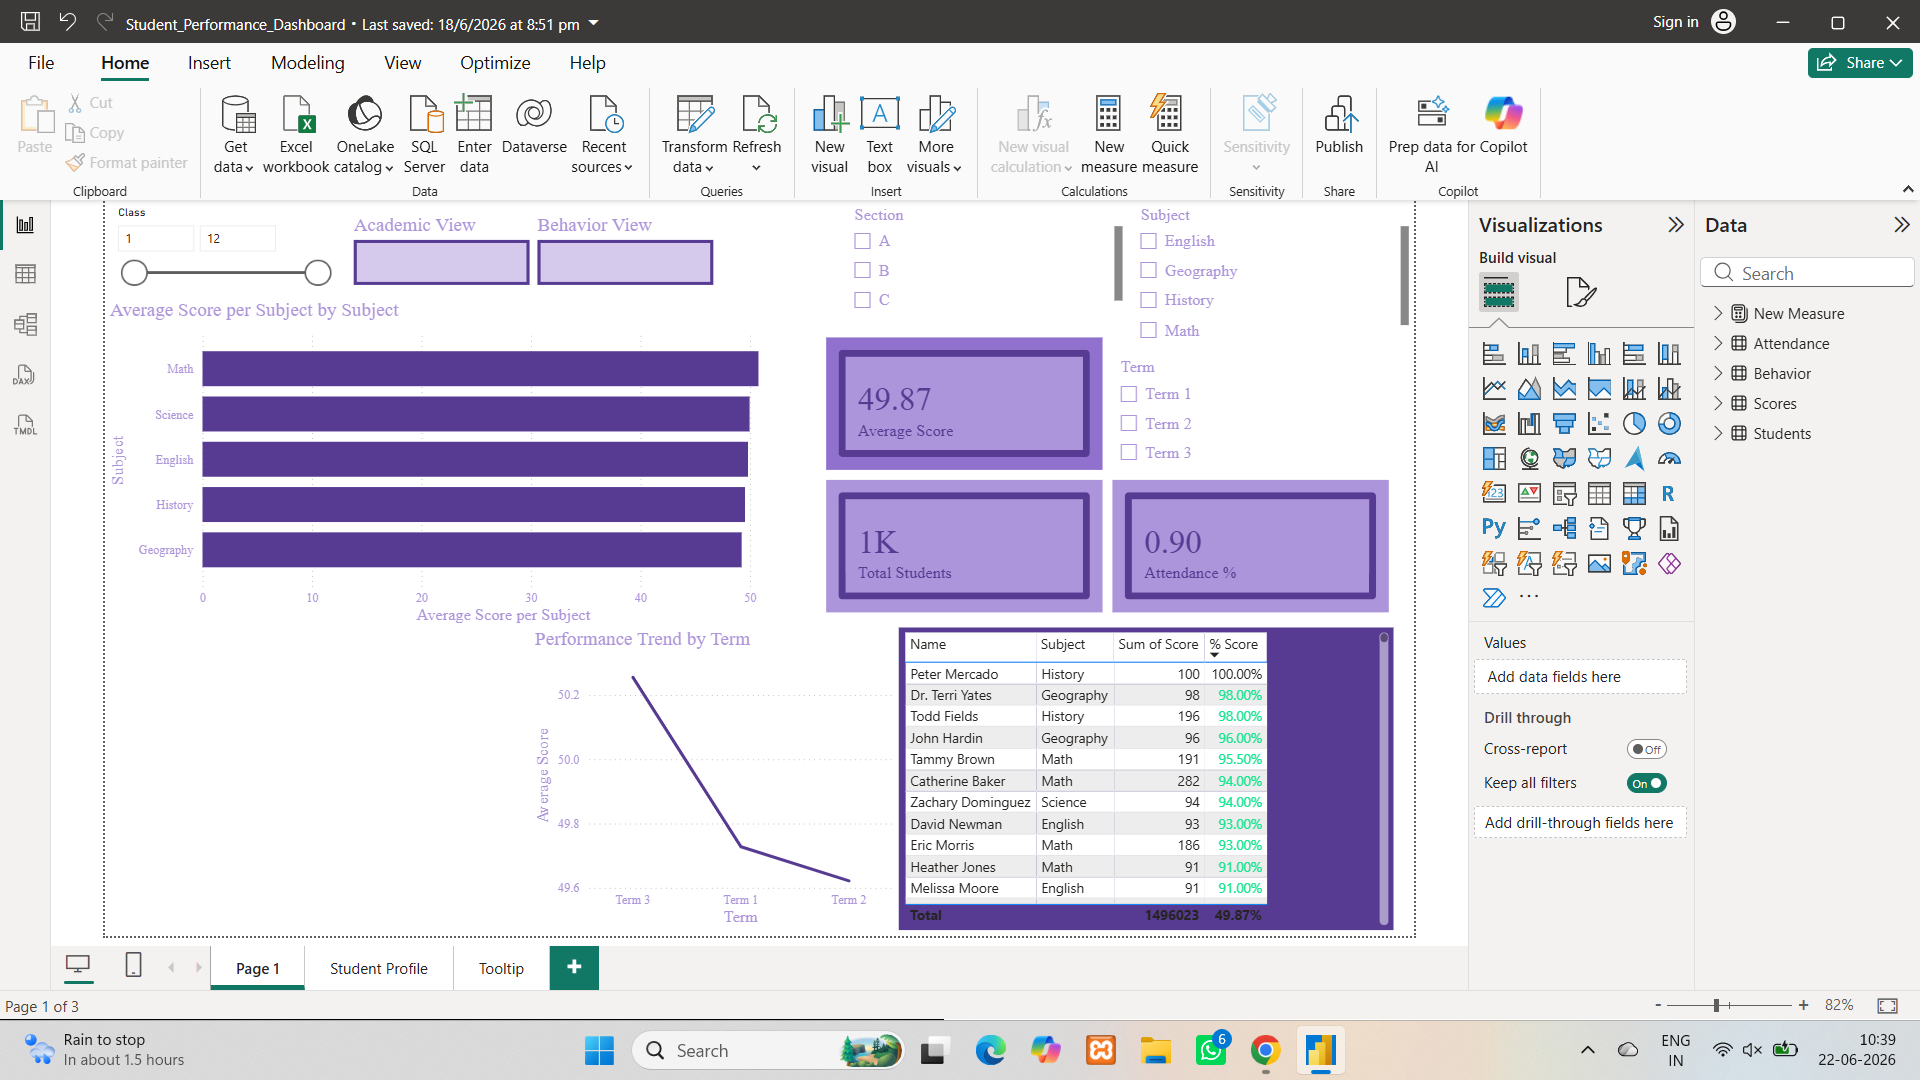

Layout of this report page (visuals, bound fields, positions):
{"tool":"powerbi","page":{"name":"Page 1","canvas":[1280,720],"ordinal":0},"visuals":[{"type":"cardVisual","fields":{"Data":["New Measure.Total Students"]},"box":[700.7,269,280,139.4],"z":0},{"type":"cardVisual","fields":{"Data":["New Measure.Attendance %"]},"box":[980.7,269,280,139.4],"z":1000},{"type":"cardVisual","fields":{"Data":["New Measure.Average Score"]},"box":[700.7,129.6,280,139.4],"z":2000},{"type":"donutChart","title":"Behavior Types Distribution","fields":{"Category":["Behavior.BehaviorType"],"Y":["New Measure.Behavior Count"]},"box":[0,418.5,415.8,296.4],"z":5000},{"type":"slicer","fields":{"Values":["Students.Class"]},"box":[0,0,229.2,96.1],"z":7000},{"type":"slicer","fields":{"Values":["Students.Section"]},"box":[720.4,0,279.9,115.3],"z":8000},{"type":"slicer","fields":{"Values":["Scores.Subject"]},"box":[1000.3,0,279.9,149.6],"z":9000},{"type":"slicer","fields":{"Values":["Scores.Term"]},"box":[980.7,149.2,299.6,119.8],"z":10000},{"type":"actionButton","title":"Behavior View","box":[423.2,13.4,172,69.9],"z":11000},{"type":"actionButton","title":"Academic View","box":[243.2,13.4,172,69.9],"z":12000}]}

Visuals, with their boxes on the page's 1280x720 design canvas (x1, y1, x2, y2). These are canvas units, not pixel positions in the 1920x1080 screenshot, which may show the page scaled, cropped or inside an application window:
cardVisual - New Measure.Total Students: (x1=701, y1=269, x2=981, y2=408)
cardVisual - New Measure.Attendance %: (x1=981, y1=269, x2=1261, y2=408)
cardVisual - New Measure.Average Score: (x1=701, y1=130, x2=981, y2=269)
"Behavior Types Distribution" donutChart: (x1=0, y1=418, x2=416, y2=715)
slicer - Students.Class: (x1=0, y1=0, x2=229, y2=96)
slicer - Students.Section: (x1=720, y1=0, x2=1000, y2=115)
slicer - Scores.Subject: (x1=1000, y1=0, x2=1280, y2=150)
slicer - Scores.Term: (x1=981, y1=149, x2=1280, y2=269)
"Behavior View" actionButton: (x1=423, y1=13, x2=595, y2=83)
"Academic View" actionButton: (x1=243, y1=13, x2=415, y2=83)
